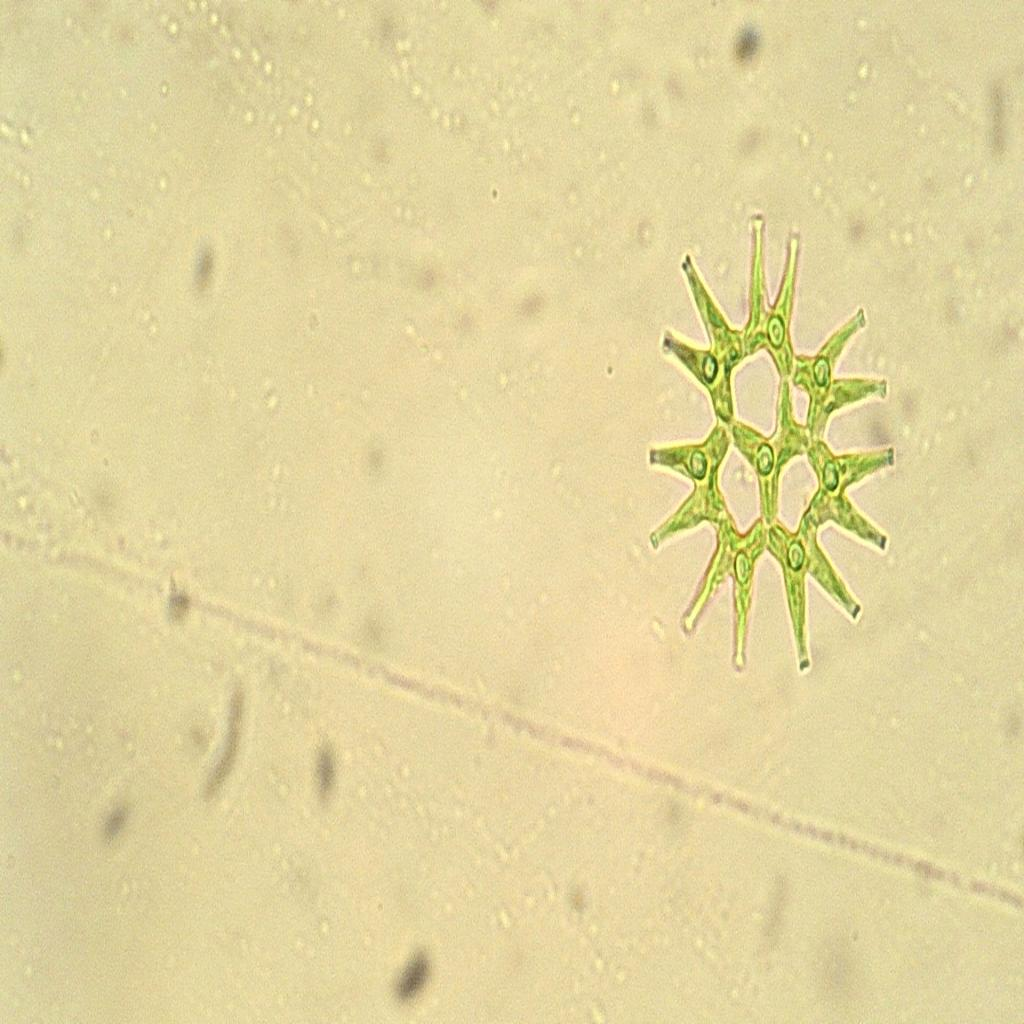Pediastrum_CTH: (632, 197, 907, 689)
